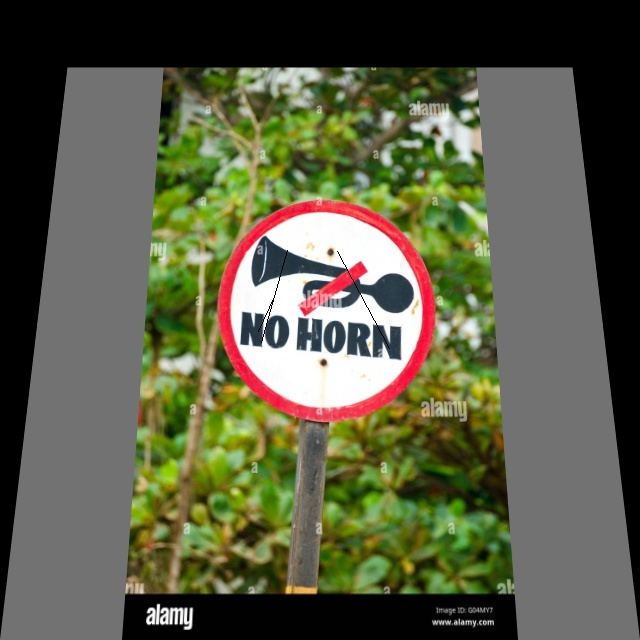Horn_Prohibited: (218, 196, 438, 424)
